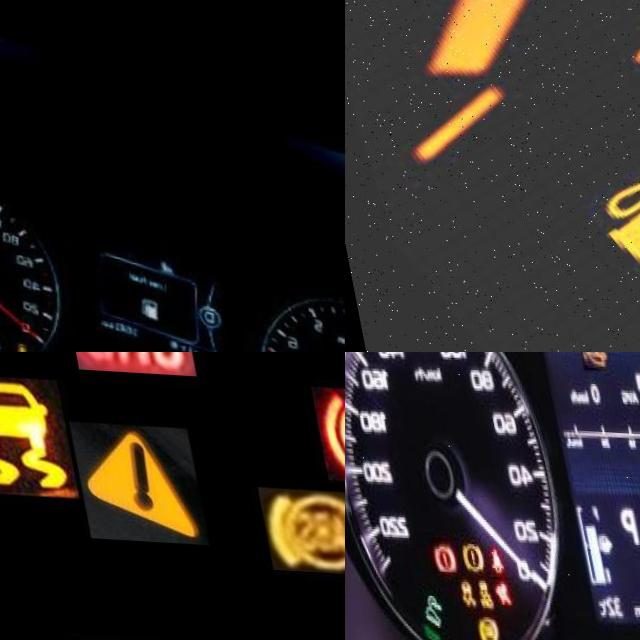Central Warning lamp: (62, 419, 198, 542)
Low fuel level: (124, 295, 149, 320), (0, 344, 11, 352)
